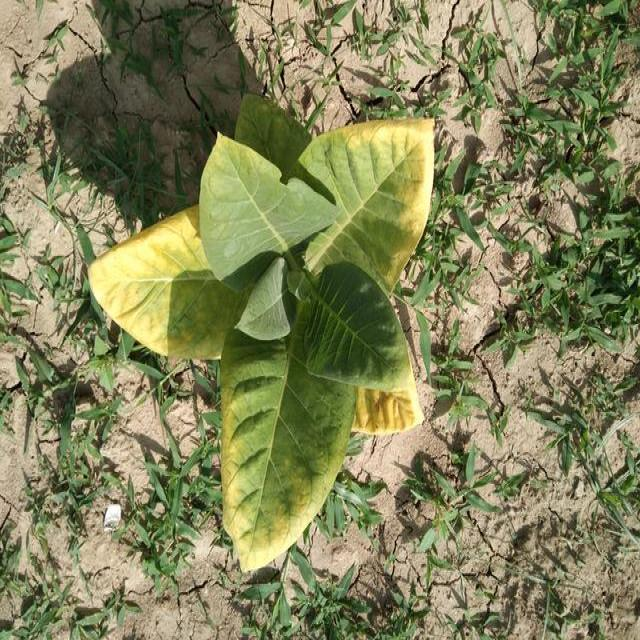crop: (86, 96, 438, 570)
